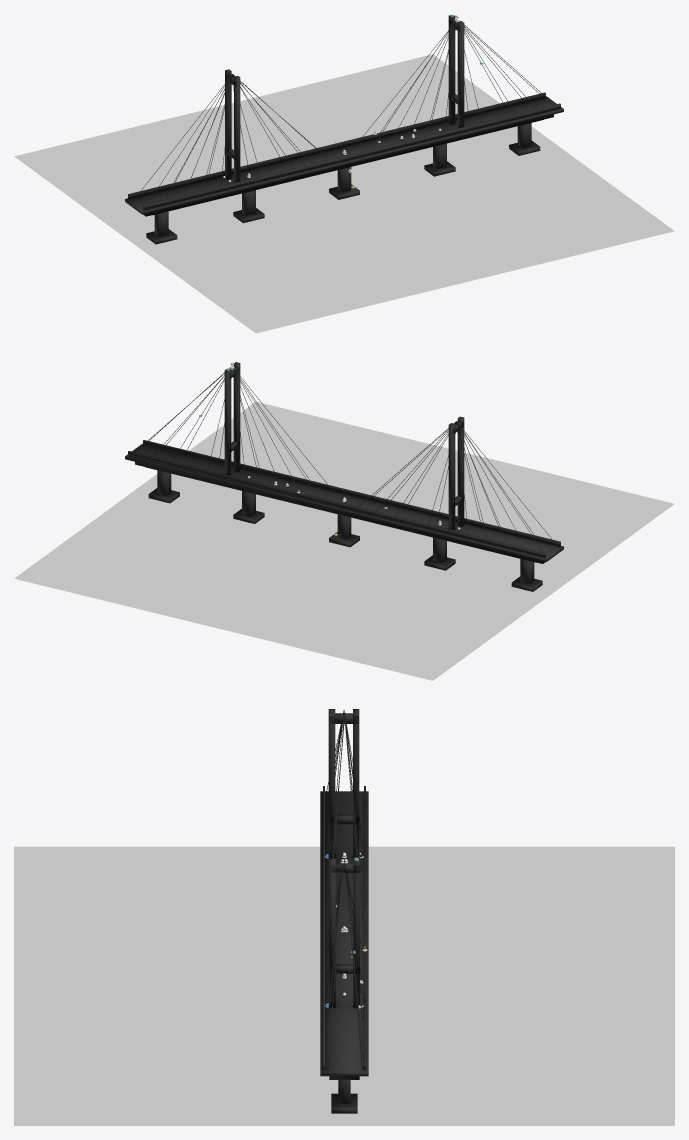
Rendered from bridge.glb.
3 renders of one model, top to bottom at view 1: azimuth 30°, elevation 25°; view 2: azimuth 150°, elevation 25°; view 3: azimuth 270°, elevation 25°, orthographic. The views are drawn at different scales.
Visible parts, largest first — view 1: water, deck_top, guardrail_-3, guardrail_+3, deck_girder, tower_+18_-2, tower_+18_+2, tower_-18_-2, tower_-18_+2; view 2: water, deck_top, guardrail_+3, guardrail_-3, deck_girder, tower_+18_+2, tower_-18_+2, tower_+18_-2, tower_-18_-2; view 3: water, deck_top, tower_-18_-2, tower_-18_+2, tower_+18_-2, tower_+18_+2.
Boxes of the visible parts, <box> form: water: <box>14,54,674,333</box>; deck_top: <box>125,96,563,214</box>; guardrail_-3: <box>143,103,560,209</box>; guardrail_+3: <box>128,92,545,198</box>; deck_girder: <box>143,114,553,216</box>; tower_+18_-2: <box>457,21,464,128</box>; tower_+18_+2: <box>448,15,455,124</box>; tower_-18_-2: <box>234,76,240,182</box>; tower_-18_+2: <box>225,69,231,179</box>; water: <box>14,401,674,680</box>; deck_top: <box>125,443,563,561</box>; guardrail_+3: <box>128,451,545,557</box>; guardrail_-3: <box>143,440,560,546</box>; deck_girder: <box>135,462,545,563</box>; tower_+18_+2: <box>224,369,231,475</box>; tower_-18_+2: <box>448,423,455,530</box>; tower_+18_-2: <box>233,362,240,472</box>; tower_-18_-2: <box>457,416,464,526</box>; water: <box>14,846,674,1125</box>; deck_top: <box>320,791,368,1076</box>; tower_-18_-2: <box>328,709,335,858</box>; tower_-18_+2: <box>353,709,359,858</box>; tower_+18_-2: <box>329,858,335,1007</box>; tower_+18_+2: <box>353,858,359,1007</box>.
Bounding box in the file's own units: 110 × 38.1 × 110.
Materials: 18 (1 with a texture image).
